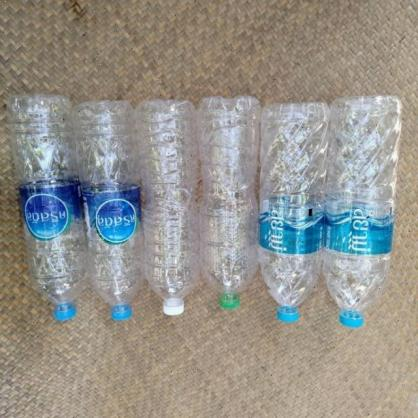bottle: (4, 96, 87, 321), (324, 94, 398, 329), (260, 99, 323, 330), (87, 97, 144, 321), (197, 96, 256, 310), (146, 98, 198, 315)
cap: (276, 307, 300, 326), (339, 312, 365, 329), (54, 304, 77, 322), (110, 306, 132, 320), (163, 301, 184, 314), (218, 296, 242, 307)
label: (16, 181, 83, 238), (260, 193, 320, 256), (325, 199, 392, 255), (88, 188, 141, 247)
